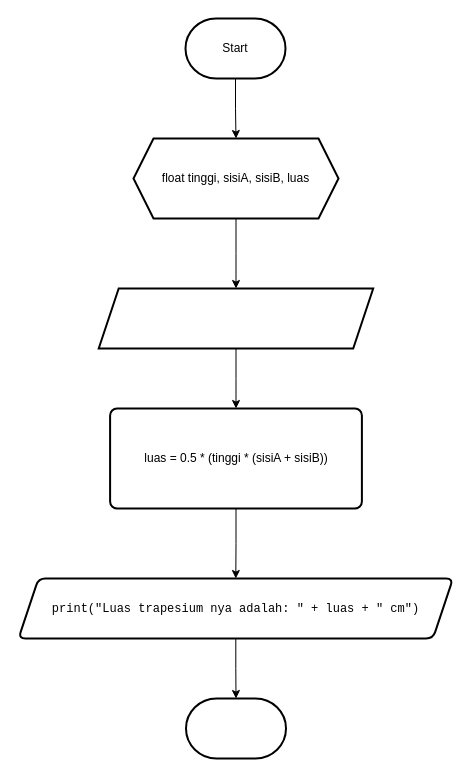
Some shapes in this 471 by 776 pixel diagram are drawn without their labels. The shapes that lost their labels are listed below. From the top down, each one's centre as x and y in pixels, then its label:
the point at 235,318: input tinggi, sisiA, sisiB
the point at 235,728: End
